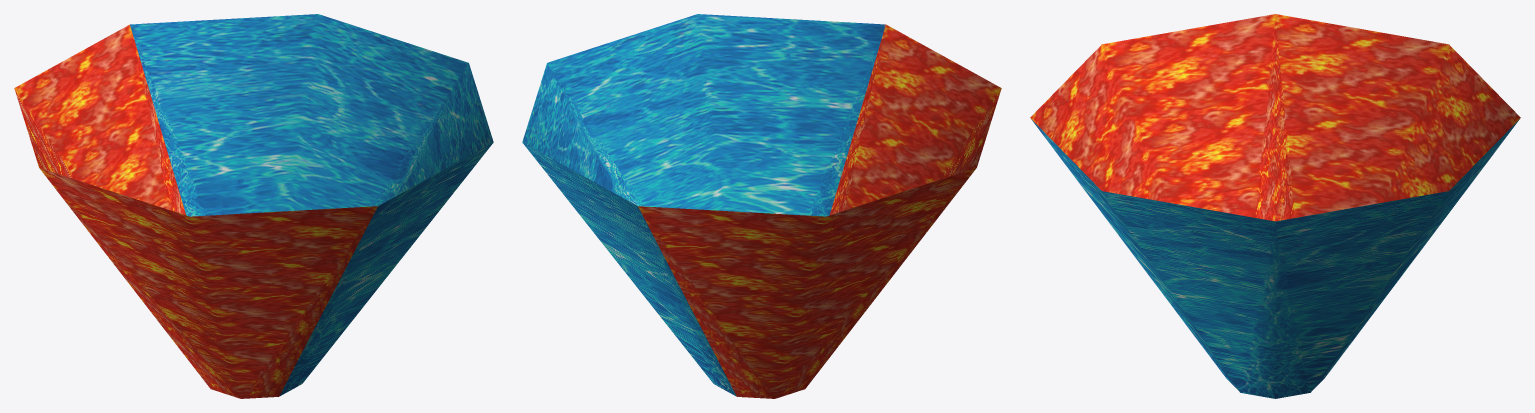
File: S99_ScoreBoard.FBX
3 views of the same model, side by side, from view 1: azimuth 30°, elevation 25°; view 2: azimuth 150°, elevation 25°; view 3: azimuth 270°, elevation 25° (orthographic).
Parts seen in each view (by area): view 1: S99_ScoreBoard; view 2: S99_ScoreBoard; view 3: S99_ScoreBoard.
Boxes of the visible parts, x1,y1,x2,y2 form: S99_ScoreBoard: [14, 14, 493, 398]; S99_ScoreBoard: [522, 14, 1001, 398]; S99_ScoreBoard: [1030, 14, 1520, 398].
Bounding box in the file's own units: 646 × 646 × 378.
